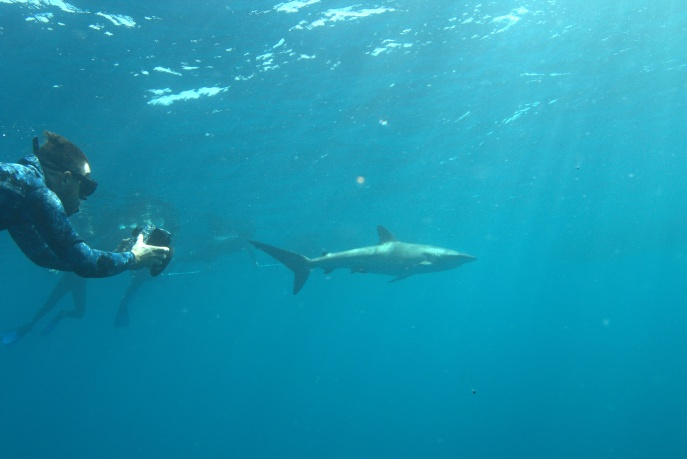Sedoso: (237, 222, 484, 306)
